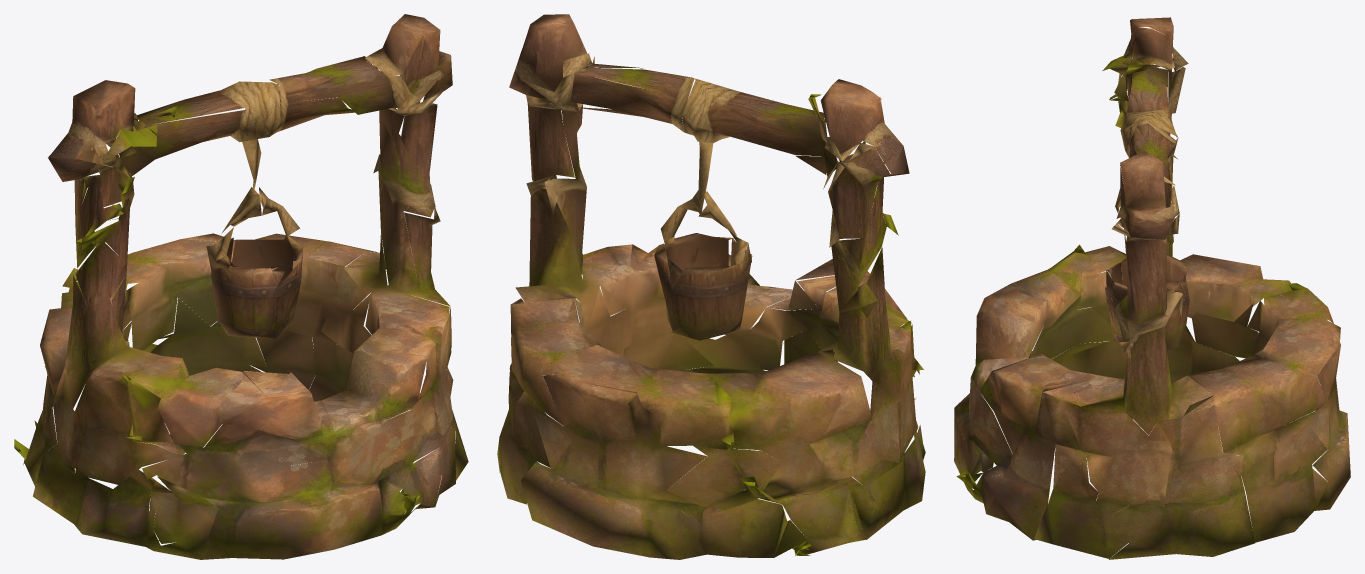
File: p_well.glb
The picture shows the model from 3 angles, left to right: view 1: azimuth 30°, elevation 25°; view 2: azimuth 150°, elevation 25°; view 3: azimuth 270°, elevation 25°; orthographic projection. The views are drawn at different scales.
Visible parts, largest first — view 1: tripo_node_9d85fe3e-698b-4dc4-b9f1-14108c79d2eb; view 2: tripo_node_9d85fe3e-698b-4dc4-b9f1-14108c79d2eb; view 3: tripo_node_9d85fe3e-698b-4dc4-b9f1-14108c79d2eb.
Boxes of the visible parts, x1,y1,x2,y2 form: tripo_node_9d85fe3e-698b-4dc4-b9f1-14108c79d2eb: (14,14,468,559); tripo_node_9d85fe3e-698b-4dc4-b9f1-14108c79d2eb: (497,14,925,559); tripo_node_9d85fe3e-698b-4dc4-b9f1-14108c79d2eb: (954,17,1350,559).
Size of the model in its own units: 0.9662 by 1 by 0.9142.
1 material, 1 textured.
